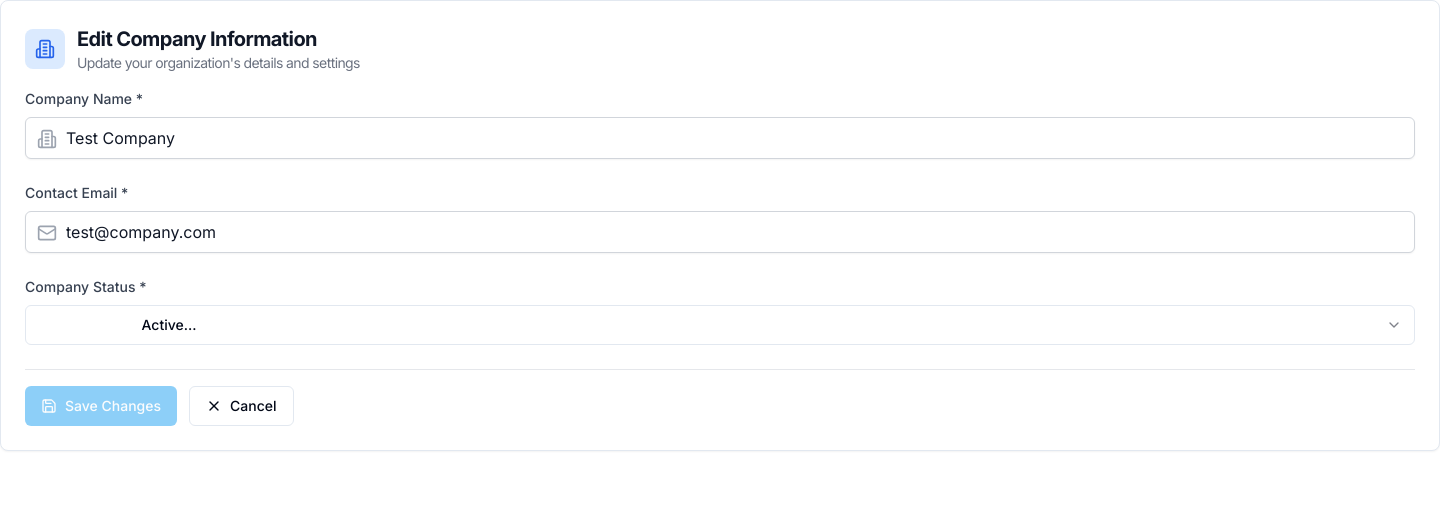
Test: CompanyEditForm › Change Detection › should enable save button when changes are made
Step 1. Replace the text in the field showing "Test Company" with "Updated Name" → (720, 138), box 25,117 -> 1415,159
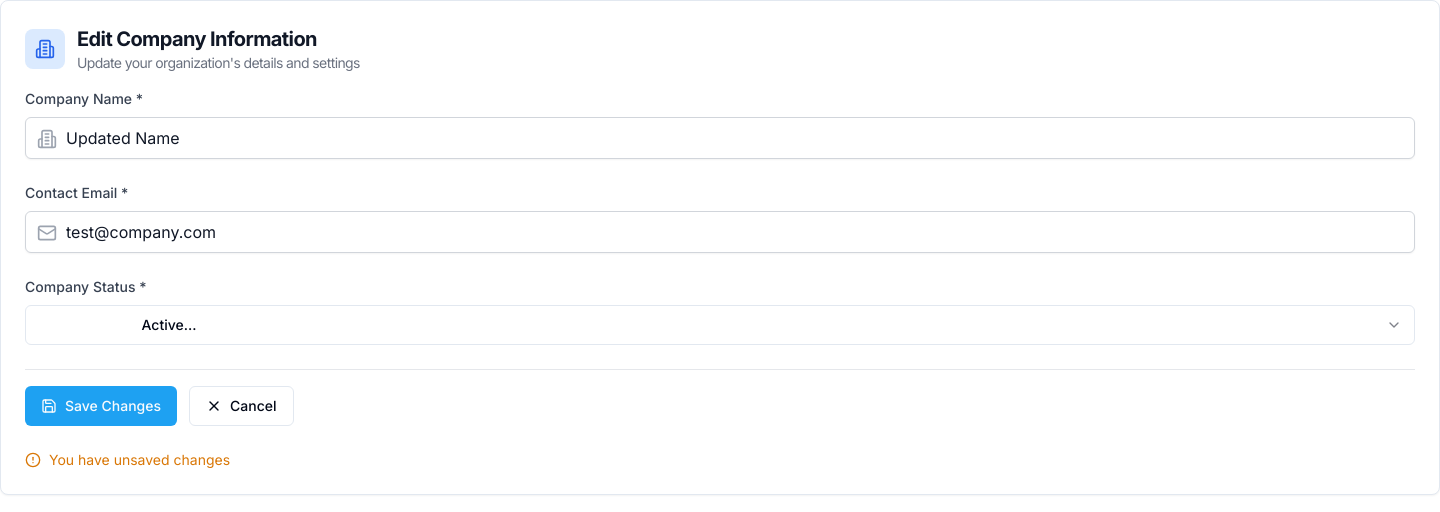
Check: the button "Save Changes" is enabled, box 25,386 -> 177,426
